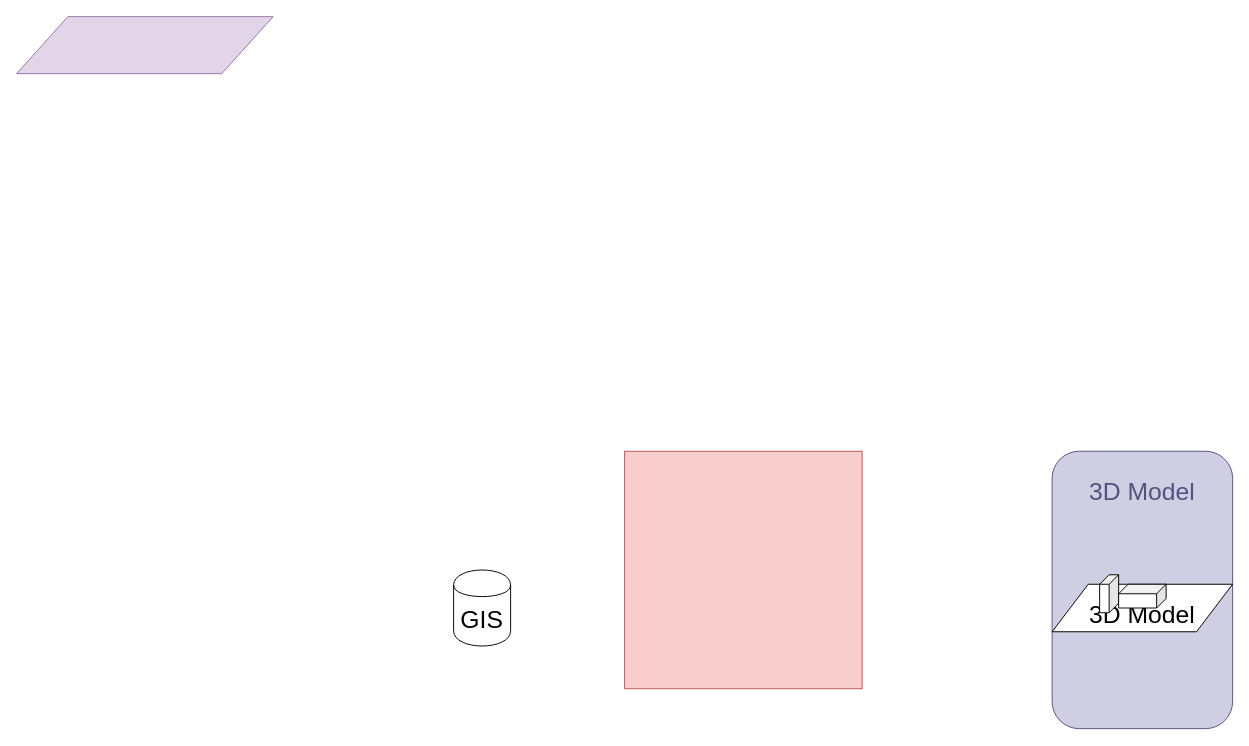
Some shapes in this 1249 by 746 pixel diagram are drawn without their labels. Here are the shapes that lost their labels. From the top down, the centre of each, then its label:
[144,45]: Part II - Top Info
[743,569]: To be completed
